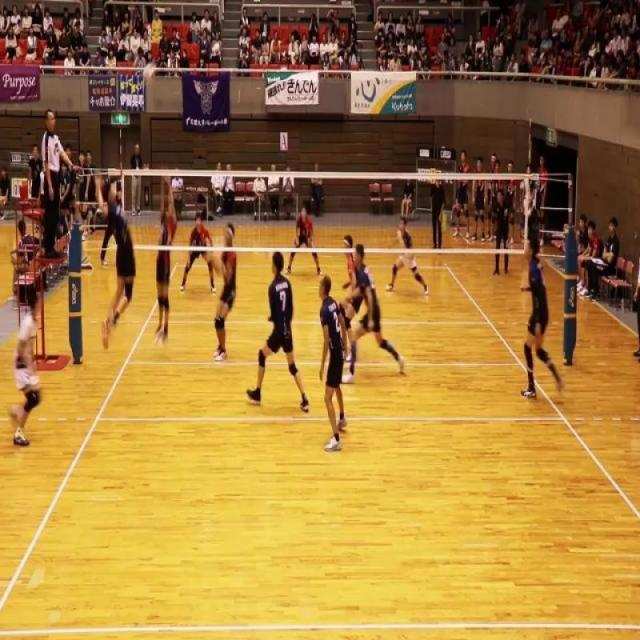volleyball: (143, 62, 156, 86)
